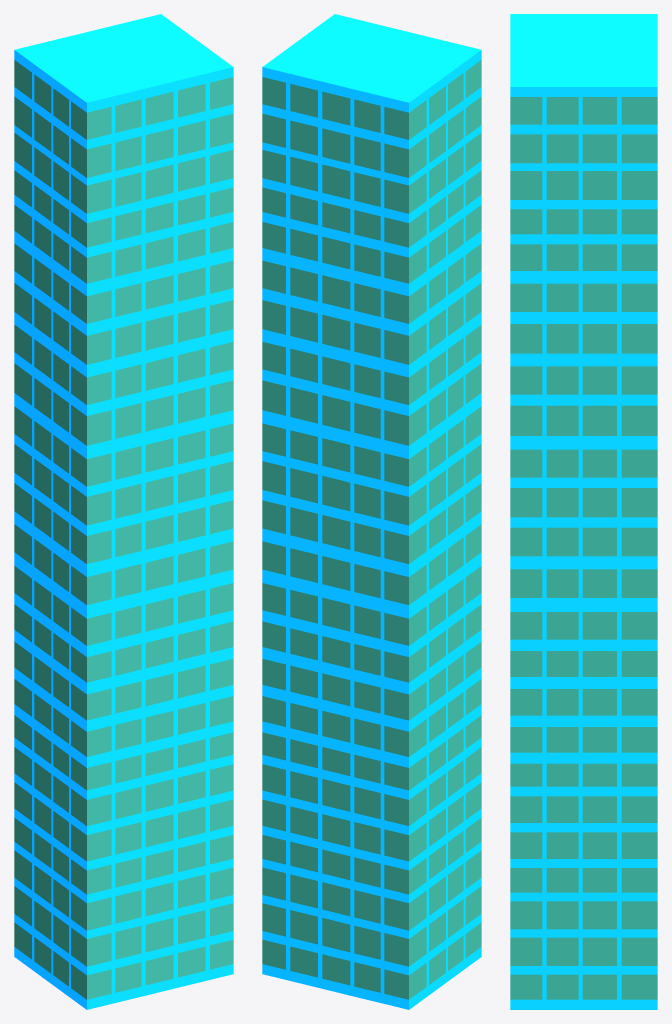
File: Build2.fbx
The picture shows the model from 3 angles, left to right: view 1: azimuth 30°, elevation 25°; view 2: azimuth 150°, elevation 25°; view 3: azimuth 270°, elevation 25°; orthographic projection.
Parts seen in each view (by area): view 1: Build; view 2: Build; view 3: Build.
Part boxes in pixels (x1,y1,x2,y2): Build: [14, 14, 233, 1009]; Build: [262, 14, 481, 1009]; Build: [510, 14, 657, 1009].
Bounding box in the file's own units: 17164 × 101410 × 14688.
